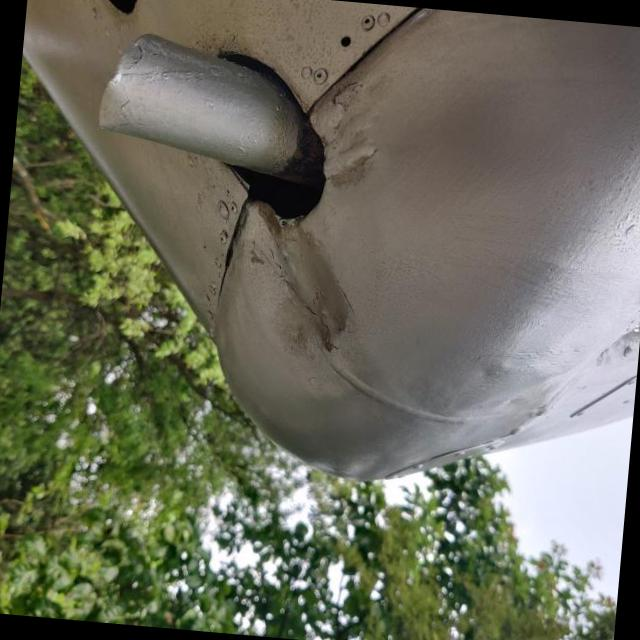Dent: (216, 202, 353, 352), (310, 113, 382, 191)
